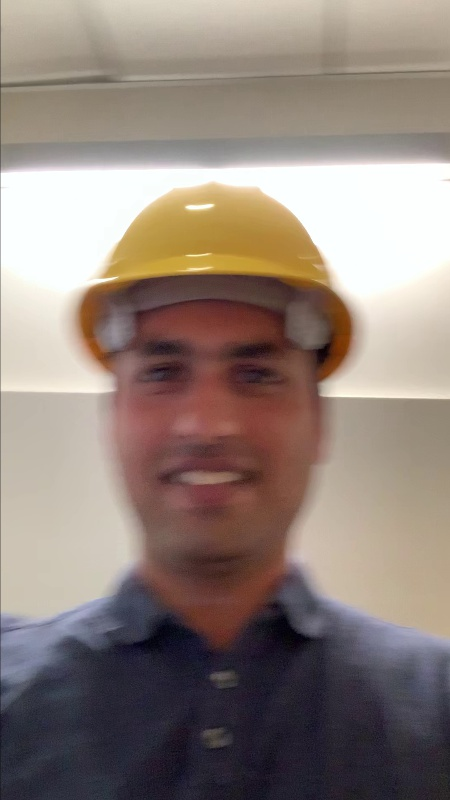helmet: (70, 178, 369, 356)
